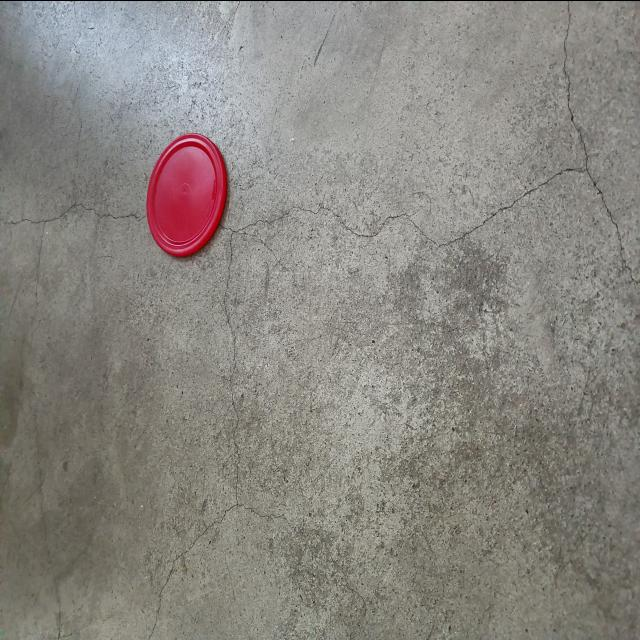chip: (146, 130, 228, 258)
